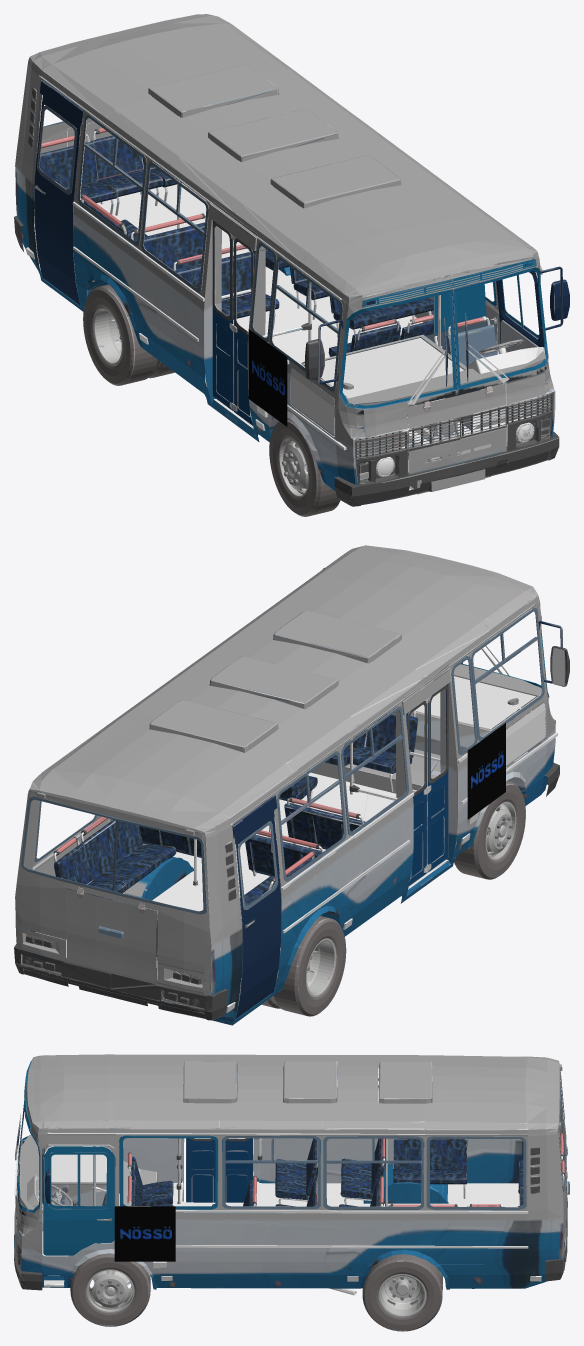
File: nyssebussi.fbx
The picture shows the model from 3 angles, top to bottom: view 1: azimuth 30°, elevation 25°; view 2: azimuth 150°, elevation 25°; view 3: azimuth 270°, elevation 25°; orthographic projection. The views are drawn at different scales.
Parts seen in each view (by area): view 1: imagetostl_mesh759; view 2: imagetostl_mesh759; view 3: imagetostl_mesh759.
Boxes of the visible parts, box(x1,y1,x2,y2) form: imagetostl_mesh759: box(14, 14, 569, 516); imagetostl_mesh759: box(14, 545, 569, 1025); imagetostl_mesh759: box(14, 1054, 569, 1331).
Size of the model in its own units: 298 by 292 by 695.
